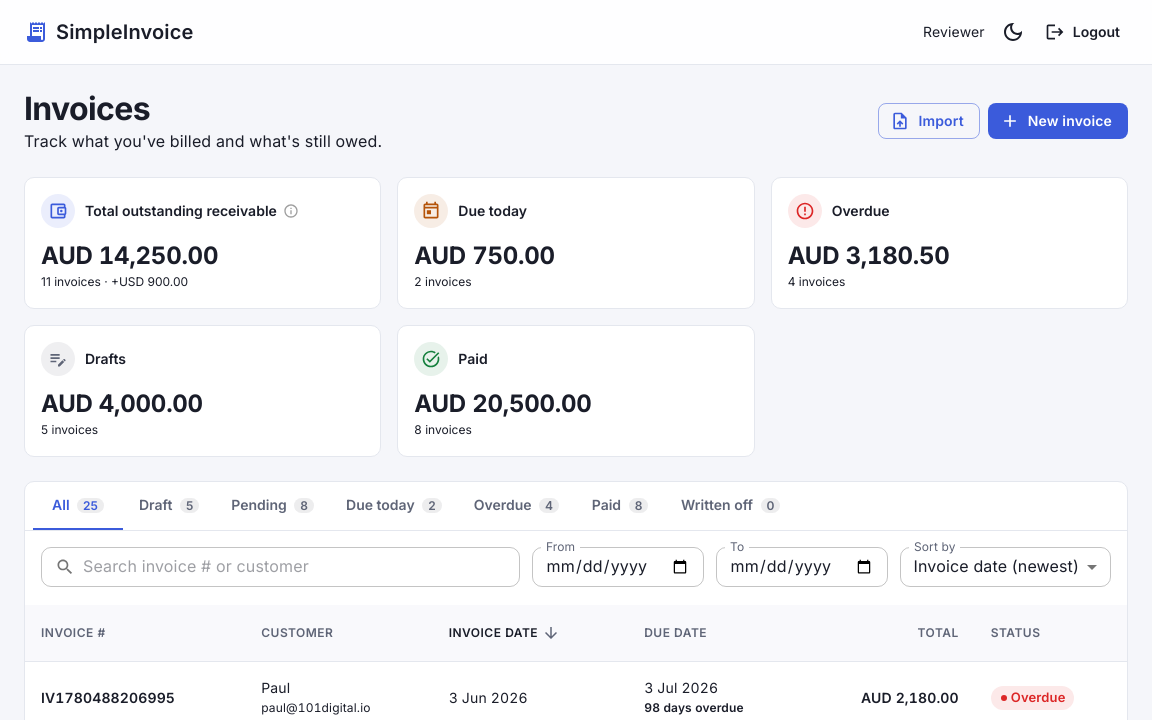
Scenario: Invoice list › shows summary cards and tab counts from the stats endpoint
Expected: the text "AUD 14,250.00" is shown, [41,240,218,270]
Expected: the text "11 invoices · +USD 900.00" is shown, [41,274,188,288]
Hover over the icon with test id "InfoOutlinedIcon" at (291, 210), box [283,202,299,218]
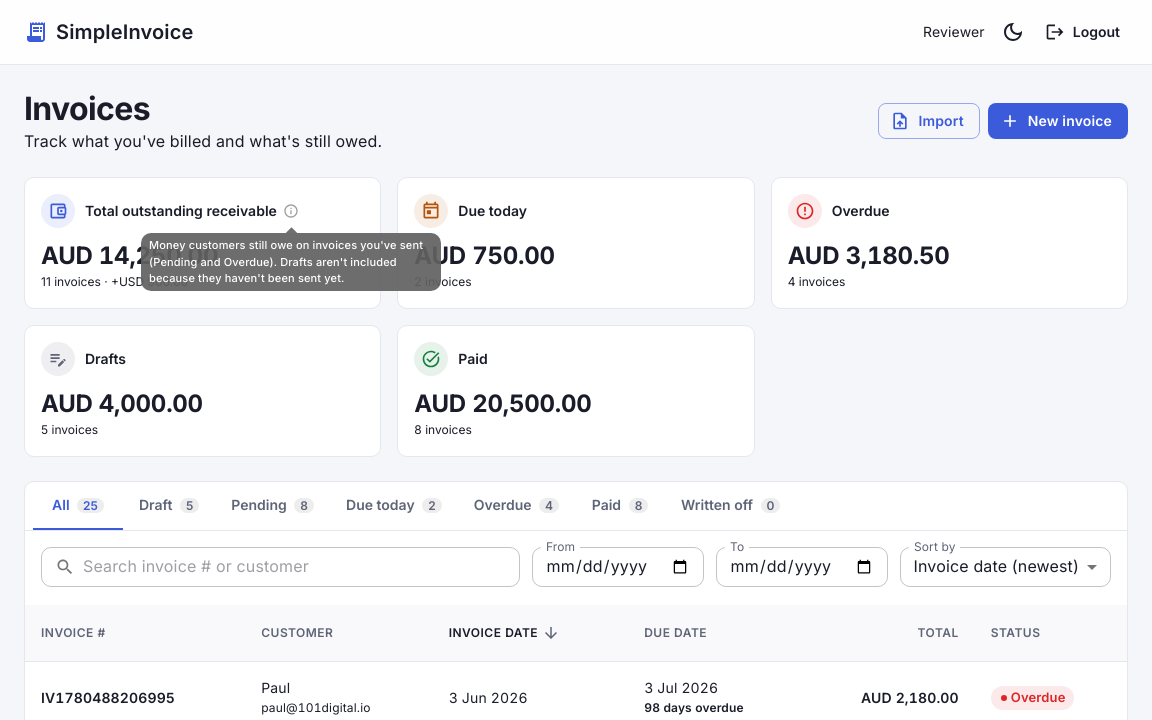
Expected: the tab "All 25" is shown, [33,482,123,530]
Now the tooltip shows "Money customers still owe on invoices you've sent", box [149,238,423,285]
